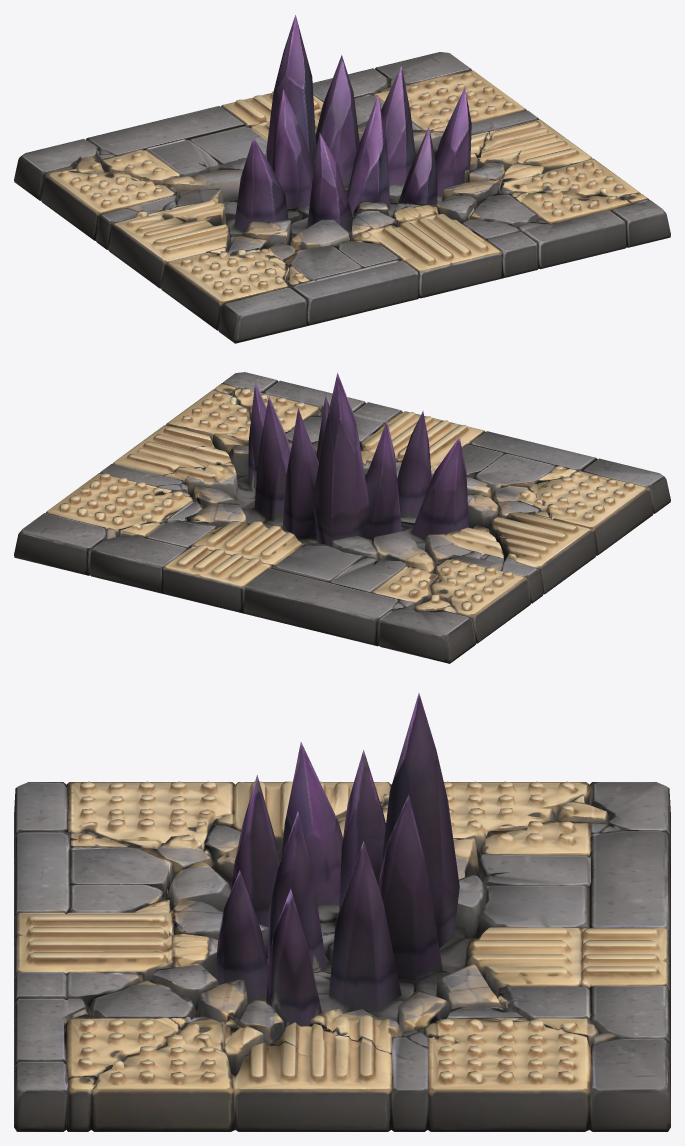
File: trap.fbx
The picture shows the model from 3 angles, top to bottom: view 1: azimuth 30°, elevation 25°; view 2: azimuth 150°, elevation 25°; view 3: azimuth 270°, elevation 25°; orthographic projection. The views are drawn at different scales.
Parts seen in each view (by area): view 1: trap; view 2: trap; view 3: trap.
Boxes of the visible parts, left/top/right/bottom form: trap: left=14, top=15, right=670, bottom=343; trap: left=14, top=372, right=670, bottom=663; trap: left=14, top=693, right=670, bottom=1131.
Size of the model in its own units: 2.34 by 0.9407 by 2.07.
